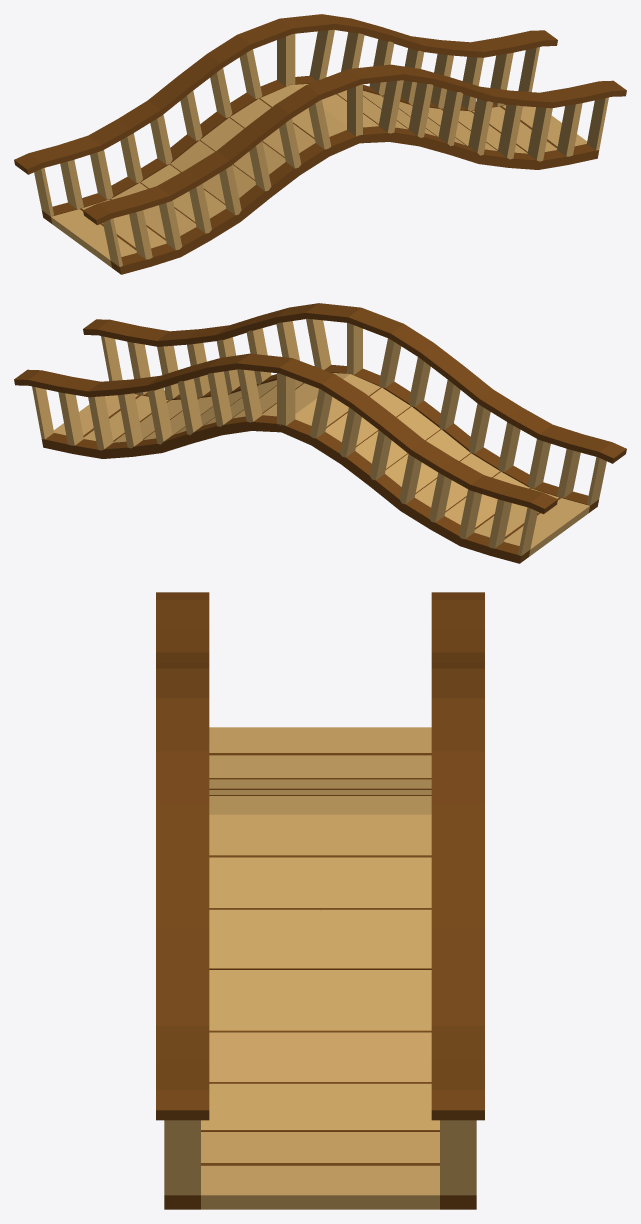
File: Pont En Bois.fbx
3 views of the same model, one above another, from view 1: azimuth 30°, elevation 25°; view 2: azimuth 150°, elevation 25°; view 3: azimuth 270°, elevation 25° (orthographic). The views are drawn at different scales.
Parts seen in each view (by area): view 1: Pont en bois; view 2: Pont en bois; view 3: Pont en bois.
Boxes of the visible parts, x1=… form: Pont en bois: x1=14, y1=14, x2=626, y2=274; Pont en bois: x1=14, y1=303, x2=626, y2=563; Pont en bois: x1=156, y1=592, x2=484, y2=1209.
Bounding box in the file's own units: 3598 × 903 × 965.
